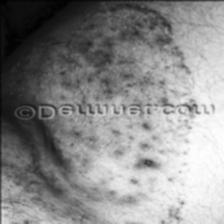Toxin: (50, 2, 196, 102), (72, 122, 206, 224), (0, 161, 50, 224)
